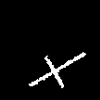single_crochet: (29, 53, 85, 87)
